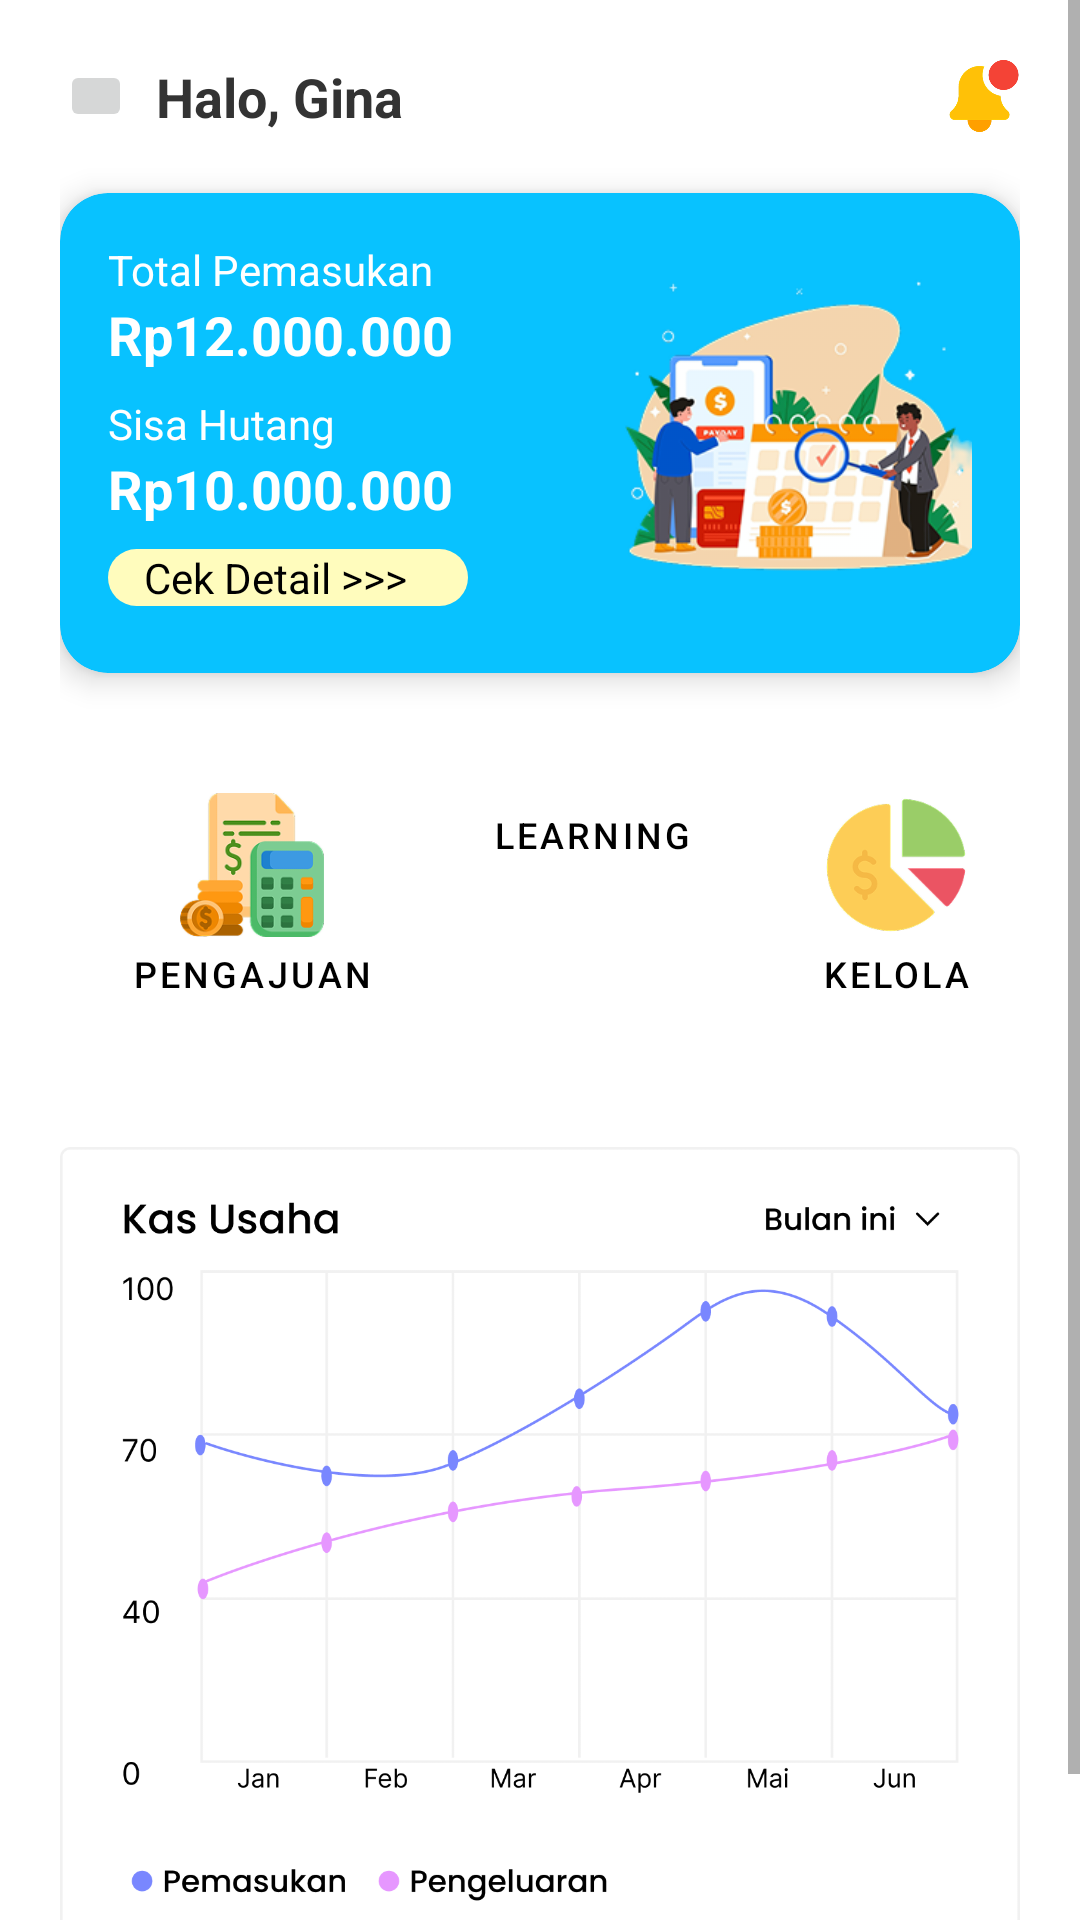

Screen size 1080px×1920px. Icon name, then its center in pixels as [x,y]:
notif: [984,96]
